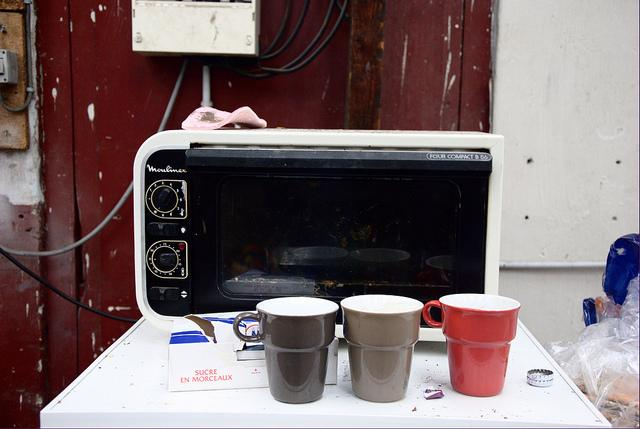cup: (233, 297, 338, 403), (423, 294, 519, 396), (341, 294, 422, 401)
